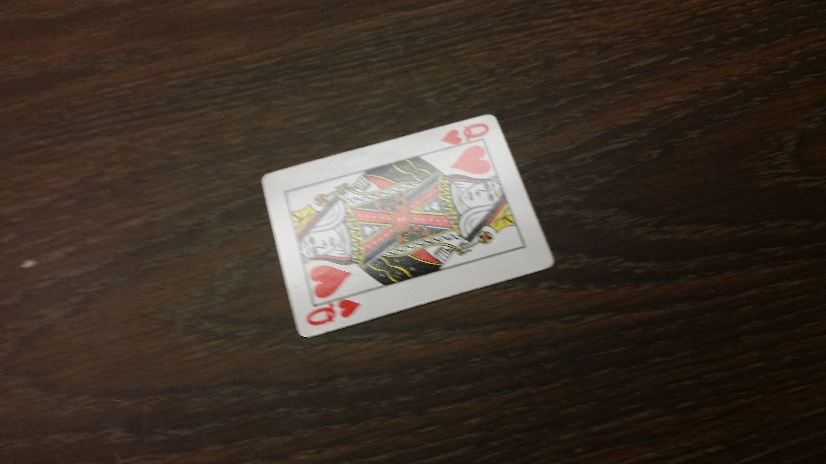Hq: (301, 299, 362, 328), (441, 123, 491, 146)
